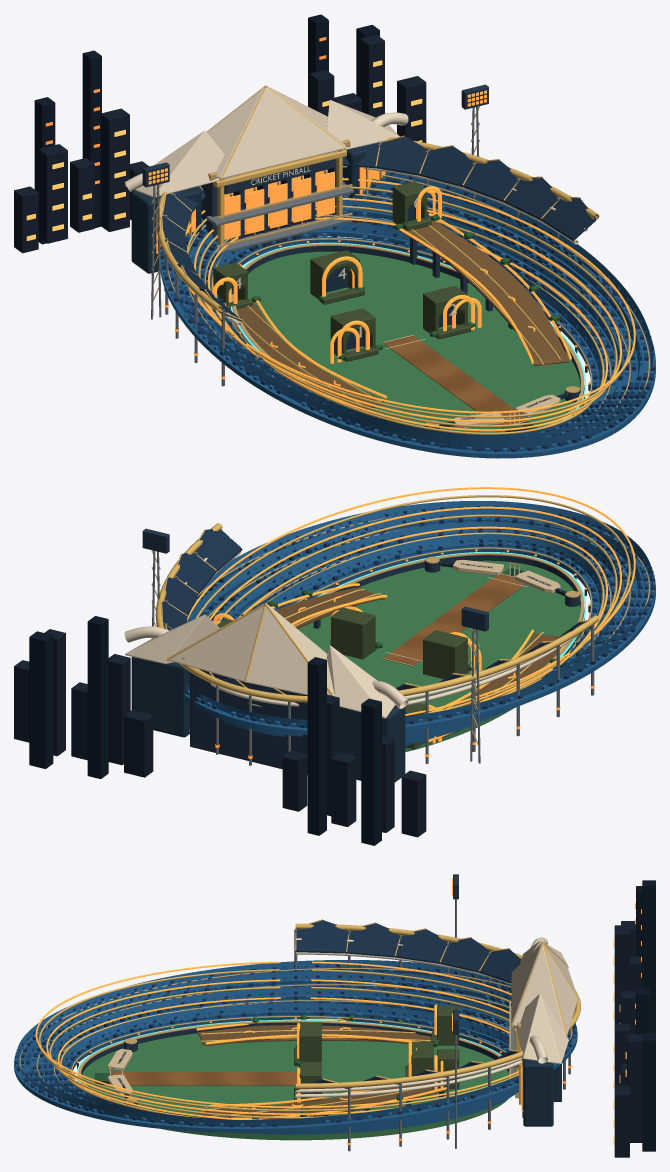
File: cricket-stadium-colosseum-r10.glb
The picture shows the model from 3 angles, top to bottom: view 1: azimuth 30°, elevation 25°; view 2: azimuth 150°, elevation 25°; view 3: azimuth 270°, elevation 25°; orthographic projection. The views are drawn at different scales.
Parts seen in each view (by area): view 1: Arena_Field_Substrate, Individual_Seats_0, Individual_Seats_1, R9_Six_Lane, R9_Pavilion_Tensile_0, Crowd_Band_09, Seating_Terrace_09, Crowd_Band_04, Crowd_Band_07, R9_City_3, Measured_Pitch, R9_Pavilion_Petal_-1 (+56 smaller); view 2: Arena_Field_Substrate, Crowd_Band_09, Pavilion_Shell, Individual_Seats_1, Individual_Seats_0, Crowd_Band_07, Crowd_Band_04, R7_Pavilion_Wing_Mass_1, R10_SkyTower_2, R10_SkyTower_1, R10_SkyTower_3, Crowd_Band_01 (+50 smaller); view 3: Arena_Field_Substrate, Crowd_Band_09, Crowd_Band_07, Seating_Terrace_09, Crowd_Band_04, Individual_Seats_1, Individual_Seats_0, Crowd_Band_01, R7_Tier_Rail_2, Measured_Pitch, R9_Tier_Warm_Band_2, R7_Upper_Fascia_2 (+48 smaller).
Part boxes in pixels (x1,y1,x2,y2): Arena_Field_Substrate: [248, 251, 584, 432]; Individual_Seats_0: [160, 174, 654, 452]; Individual_Seats_1: [160, 172, 655, 452]; R9_Six_Lane: [399, 217, 568, 365]; R9_Pavilion_Tensile_0: [222, 87, 344, 178]; Crowd_Band_09: [162, 172, 652, 451]; Seating_Terrace_09: [160, 176, 655, 458]; Crowd_Band_04: [196, 200, 620, 440]; Crowd_Band_07: [178, 176, 640, 443]; R9_City_3: [100, 108, 129, 231]; Measured_Pitch: [383, 335, 529, 428]; R9_Pavilion_Petal_-1: [125, 130, 239, 197]; Arena_Field_Substrate: [298, 560, 584, 752]; Crowd_Band_09: [186, 501, 652, 727]; Pavilion_Shell: [190, 669, 307, 774]; Individual_Seats_1: [185, 506, 655, 728]; Individual_Seats_0: [187, 506, 655, 727]; Crowd_Band_07: [187, 509, 640, 685]; Crowd_Band_04: [217, 521, 620, 689]; R7_Pavilion_Wing_Mass_1: [131, 657, 189, 737]; R10_SkyTower_2: [87, 616, 108, 778]; R10_SkyTower_1: [307, 657, 326, 835]; R10_SkyTower_3: [29, 631, 53, 768]; Crowd_Band_01: [267, 534, 601, 678]; Arena_Field_Substrate: [77, 1033, 509, 1140]; Crowd_Band_09: [16, 960, 574, 1126]; Crowd_Band_07: [28, 971, 511, 1119]; Seating_Terrace_09: [14, 969, 577, 1132]; Crowd_Band_04: [45, 987, 509, 1119]; Individual_Seats_1: [15, 964, 576, 1127]; Individual_Seats_0: [15, 964, 576, 1127]; Crowd_Band_01: [62, 1002, 509, 1119]; R7_Tier_Rail_2: [38, 969, 518, 1111]; Measured_Pitch: [111, 1072, 296, 1085]; R9_Tier_Warm_Band_2: [35, 961, 518, 1108]; R7_Upper_Fascia_2: [295, 923, 580, 1089].
Size of the model in its own units: 11.82 by 5.09 by 18.7.
Materials: 31 (1 with a texture image).
